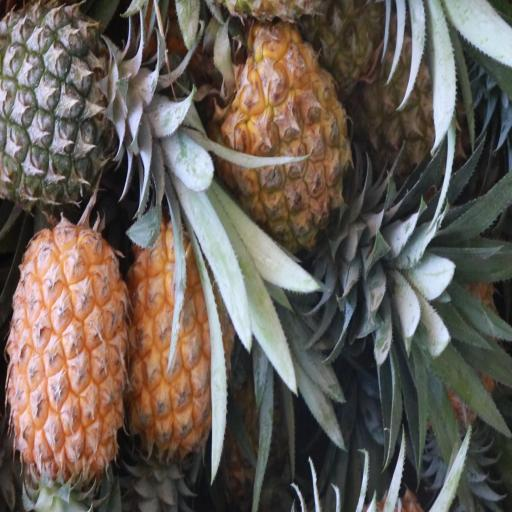------------------------------: (361, 28, 462, 188)
Pineapple - v8 v1: (11, 225, 126, 485), (221, 22, 346, 243), (130, 206, 228, 448)
